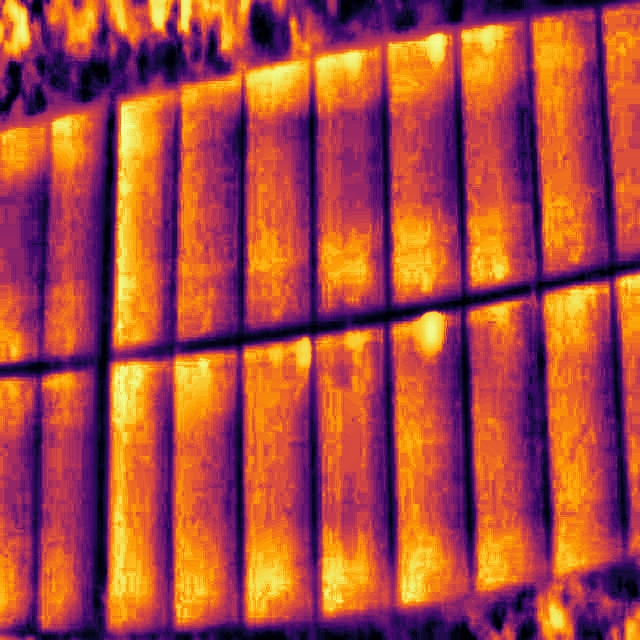Hotspot: (422, 314, 440, 349)
Moderate-High: (422, 314, 440, 349)
